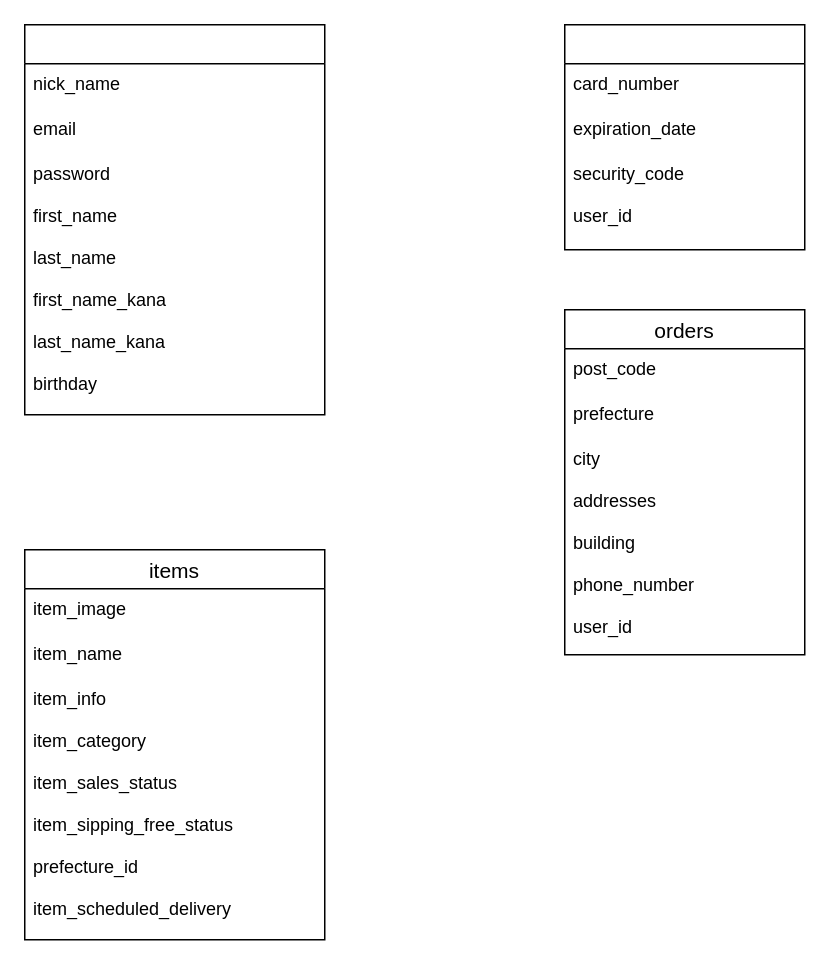
Some shapes in this 830 by 965 pixel diagram are drawn without their labels. The box of each missing label's shape, as (x1, y1, x2, y2) in pixels:
cards: (563, 23, 805, 250)
users: (23, 23, 325, 415)
